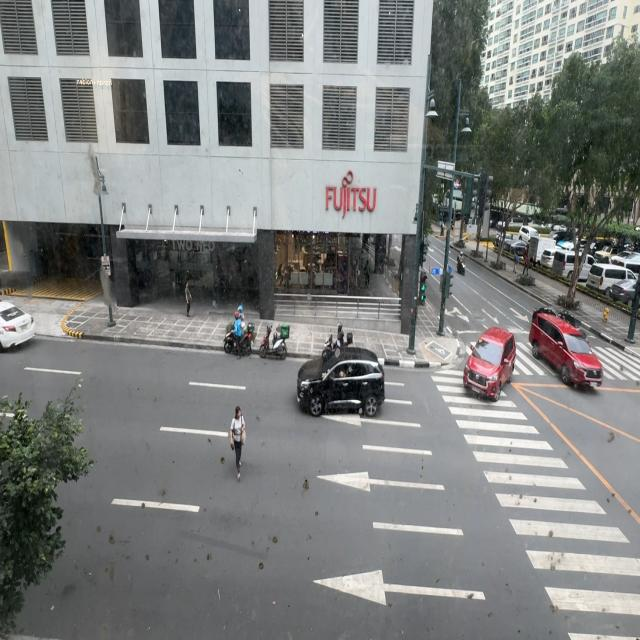jaywalking: (230, 407, 246, 480)
pedestrain: (185, 280, 192, 318), (522, 250, 530, 276), (512, 249, 518, 274)
